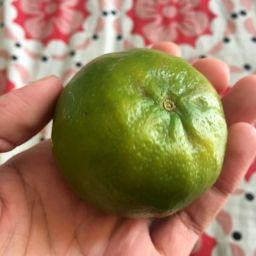Unripe: (55, 49, 226, 216)
